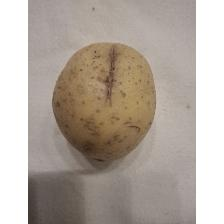Kartoffel: (48, 40, 160, 164)
